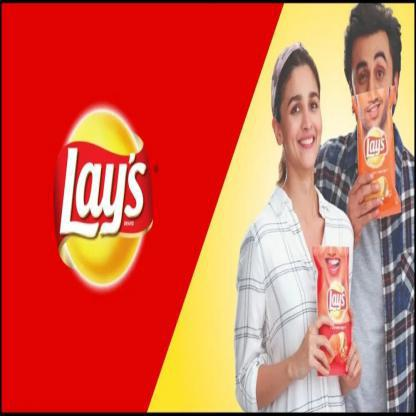hot_and_sweet: (353, 83, 402, 219)
tangy_tomato: (312, 245, 356, 377)
